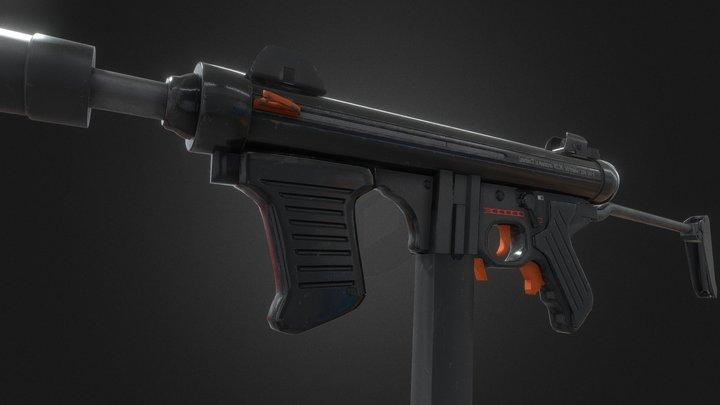Pistol: (1, 15, 720, 337)
